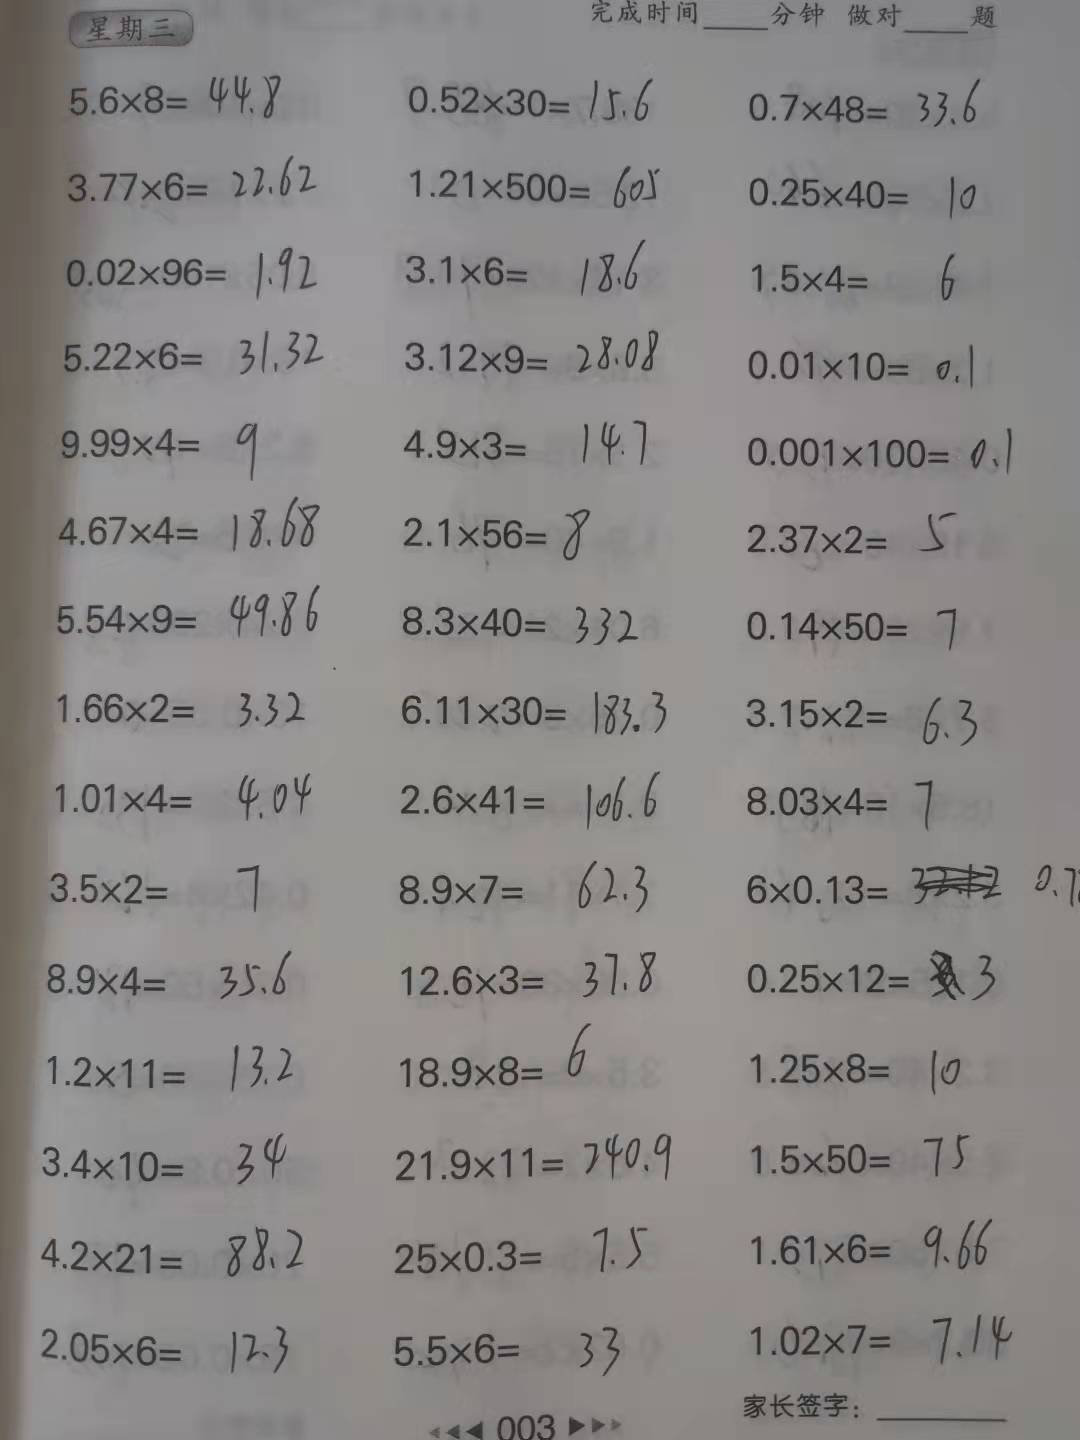equation: (37, 1028, 306, 1101), (729, 858, 1080, 913), (388, 1126, 677, 1192), (389, 317, 664, 387), (387, 855, 661, 922), (389, 940, 664, 1007), (740, 1208, 996, 1279), (736, 686, 987, 759), (393, 65, 663, 132), (51, 494, 326, 560), (388, 772, 673, 835), (743, 1310, 1023, 1372), (47, 409, 262, 490), (36, 1220, 314, 1282), (40, 1313, 302, 1379), (742, 1117, 974, 1191), (383, 1217, 655, 1279), (743, 69, 992, 137), (398, 237, 656, 302), (50, 764, 317, 827), (386, 1313, 625, 1382), (54, 581, 320, 643), (59, 323, 332, 383), (43, 942, 301, 1006), (52, 854, 288, 923), (389, 591, 653, 652), (393, 410, 661, 471), (391, 1014, 600, 1091), (33, 1127, 295, 1188), (731, 337, 993, 398), (737, 424, 1026, 480), (743, 946, 1004, 1007), (406, 158, 673, 217), (741, 1035, 967, 1104), (56, 243, 327, 299), (736, 163, 990, 223), (393, 685, 674, 738), (61, 145, 324, 202), (745, 497, 962, 565), (54, 62, 292, 120), (54, 679, 311, 732), (746, 247, 965, 310), (737, 598, 970, 654), (742, 770, 940, 836), (398, 501, 602, 565)
